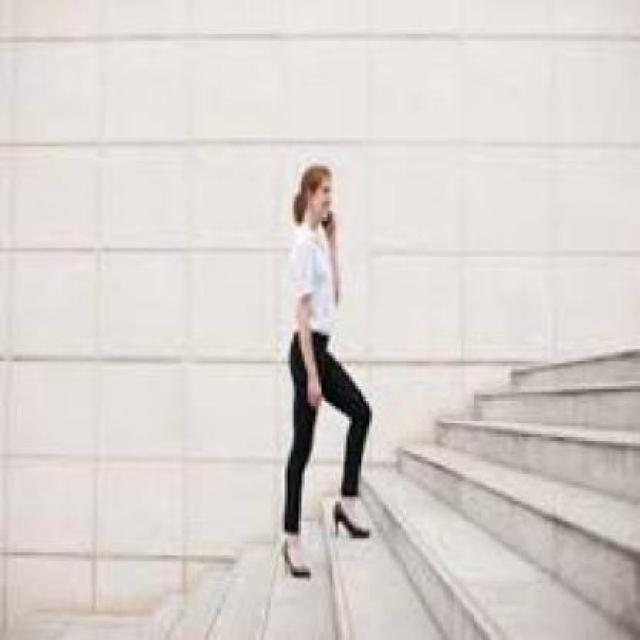stair: (257, 451, 566, 629)
